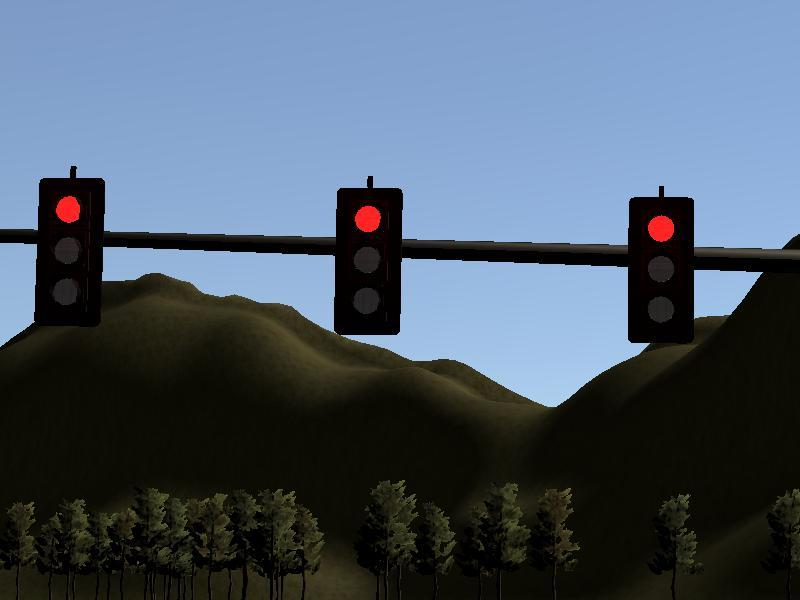Red: (630, 196, 695, 340), (337, 193, 402, 331), (37, 179, 100, 318)
